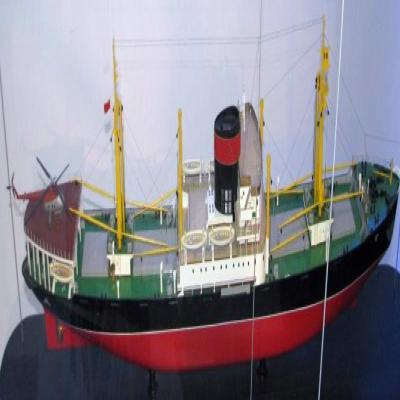other: (21, 15, 400, 334)
